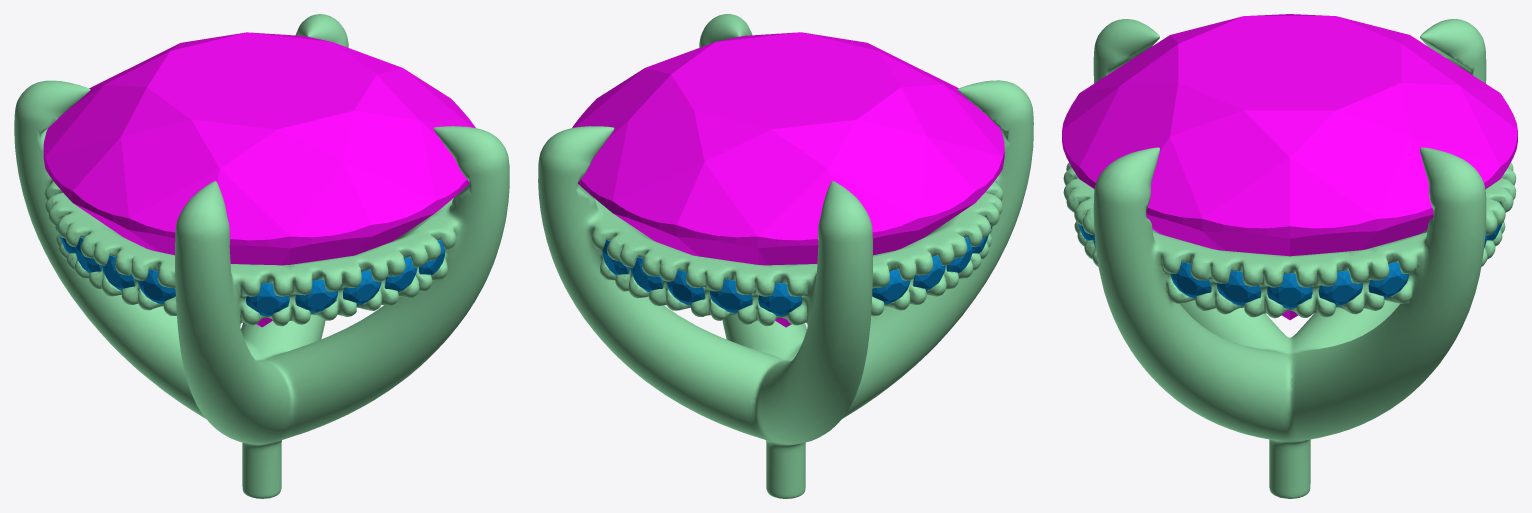
File: Round_diamond.glb
3 views of the same model, side by side, from view 1: azimuth 30°, elevation 25°; view 2: azimuth 150°, elevation 25°; view 3: azimuth 270°, elevation 25° (orthographic). The views are drawn at different scales.
Visible parts, largest first — view 1: Metal 02, CS_Diamond_Round, Diamond_Round_Gem_HD.015, Diamond_Round_Gem_HD.016, Diamond_Round_Gem_HD.017, Diamond_Round_Gem_HD, Diamond_Round_Gem_HD.018, Diamond_Round_Gem_HD.001; view 2: Metal 02, CS_Diamond_Round, Diamond_Round_Gem_HD.005, Diamond_Round_Gem_HD.006, Diamond_Round_Gem_HD.007, Diamond_Round_Gem_HD.004, Diamond_Round_Gem_HD.008, Diamond_Round_Gem_HD.003; view 3: CS_Diamond_Round, Metal 02, Diamond_Round_Gem_HD.012, Diamond_Round_Gem_HD.011, Diamond_Round_Gem_HD.013, Diamond_Round_Gem_HD.014, Diamond_Round_Gem_HD.010.
Part boxes in pixels (x1,y1,x2,y2): Metal 02: (14,14,509,498); CS_Diamond_Round: (43,32,475,327); Diamond_Round_Gem_HD.015: (246,282,289,316); Diamond_Round_Gem_HD.016: (295,279,337,312); Diamond_Round_Gem_HD.017: (343,270,381,305); Diamond_Round_Gem_HD: (138,269,175,304); Diamond_Round_Gem_HD.018: (385,257,417,292); Diamond_Round_Gem_HD.001: (102,255,134,290); Metal 02: (538,14,1033,498); CS_Diamond_Round: (572,32,1004,327); Diamond_Round_Gem_HD.005: (758,283,801,316); Diamond_Round_Gem_HD.006: (710,279,752,312); Diamond_Round_Gem_HD.007: (666,270,704,305); Diamond_Round_Gem_HD.004: (872,269,910,304); Diamond_Round_Gem_HD.008: (630,257,662,292); Diamond_Round_Gem_HD.003: (913,255,945,290); CS_Diamond_Round: (1062,14,1517,319); Metal 02: (1063,19,1516,498); Diamond_Round_Gem_HD.012: (1267,273,1312,308); Diamond_Round_Gem_HD.011: (1318,271,1362,305); Diamond_Round_Gem_HD.013: (1217,271,1261,305); Diamond_Round_Gem_HD.014: (1170,262,1211,298); Diamond_Round_Gem_HD.010: (1368,262,1409,298).
Size of the model in its own units: 8 by 8.3 by 8.
